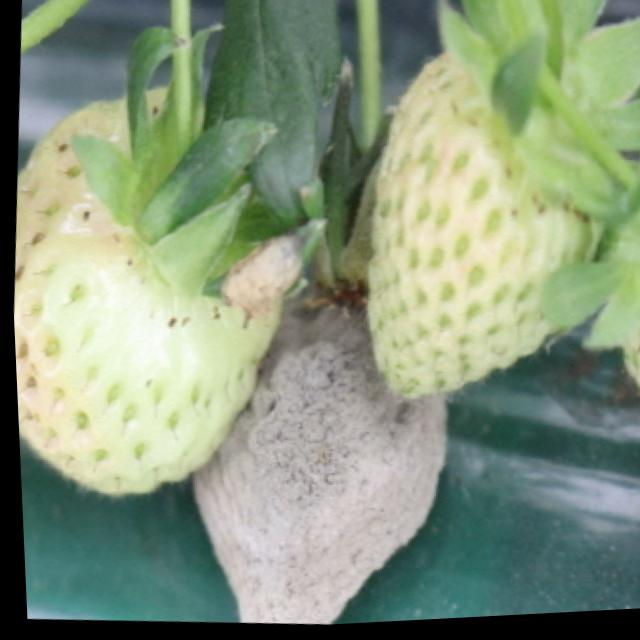Gray Mold: (188, 281, 442, 627)
